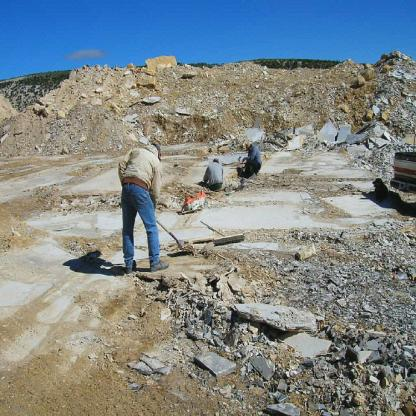person: (107, 122, 164, 269), (235, 125, 263, 180), (198, 149, 223, 201)
